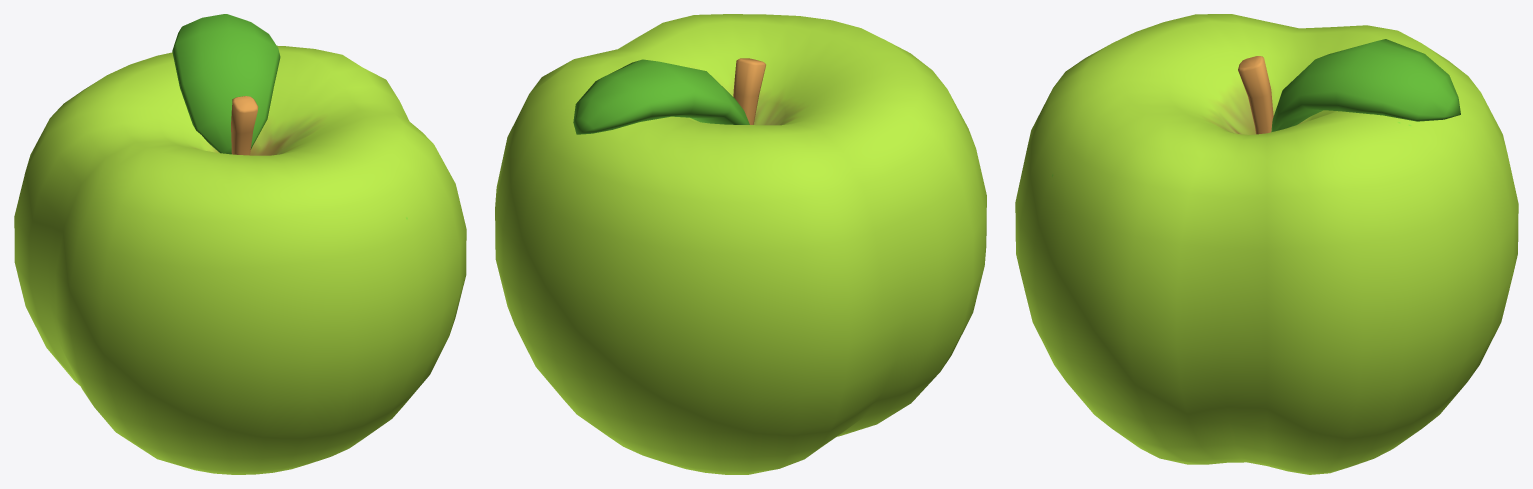
Rendered from Apple.fbx.
3 views of the same model, side by side, from view 1: azimuth 30°, elevation 25°; view 2: azimuth 150°, elevation 25°; view 3: azimuth 270°, elevation 25° (orthographic). The views are drawn at different scales.
Parts seen in each view (by area): view 1: Main_Export, Leaf.003_Export, Rootlet_Export; view 2: Main_Export, Leaf.003_Export, Rootlet_Export; view 3: Main_Export, Leaf.003_Export, Rootlet_Export.
Boxes of the visible parts, x1,y1,x2,y2 form: Main_Export: (14, 45, 466, 474); Leaf.003_Export: (172, 14, 280, 154); Rootlet_Export: (231, 96, 258, 155); Main_Export: (495, 14, 986, 474); Leaf.003_Export: (573, 59, 749, 134); Rootlet_Export: (733, 58, 765, 124); Main_Export: (1015, 14, 1518, 474); Leaf.003_Export: (1271, 39, 1460, 132); Rootlet_Export: (1238, 56, 1273, 134).
Size of the model in its own units: 16.77 by 15.57 by 17.17.
Materials: 3 (3 with a texture image).
